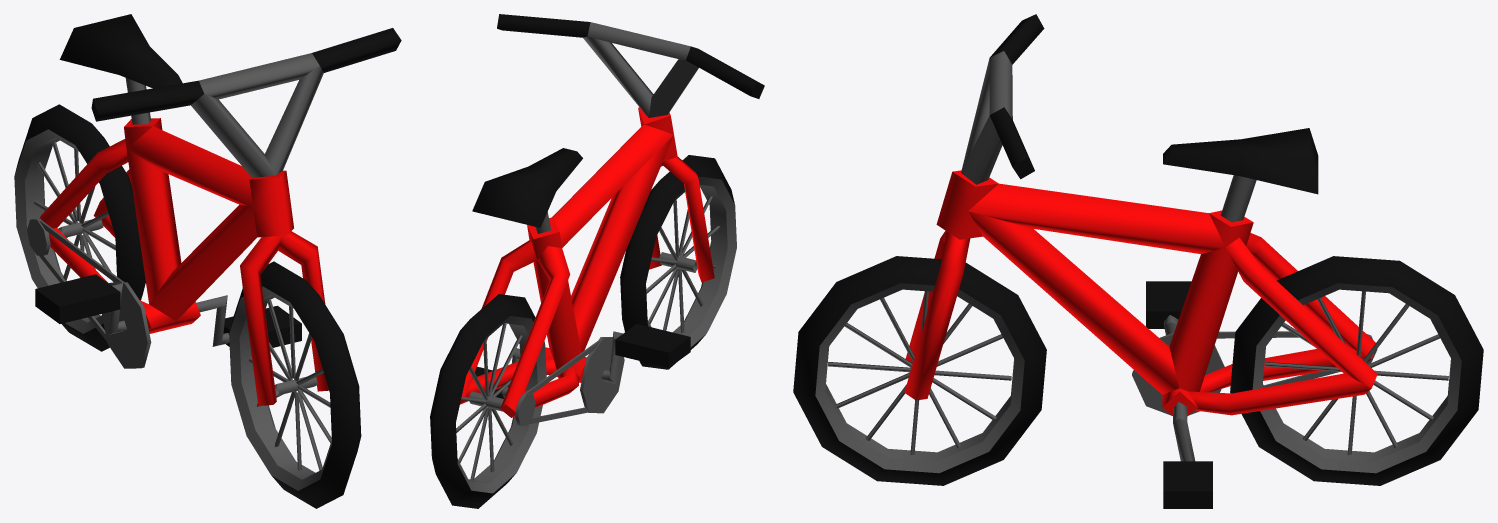
The model's file is bicycle.obj.
3 views of the same model, side by side, from view 1: azimuth 30°, elevation 25°; view 2: azimuth 150°, elevation 25°; view 3: azimuth 270°, elevation 25° (orthographic). The views are drawn at different scales.
Parts seen in each view (by area): view 1: Bicycle; view 2: Bicycle; view 3: Bicycle.
Boxes of the visible parts, box(x1,y1,x2,y2) form: Bicycle: box(14, 14, 401, 508); Bicycle: box(430, 14, 764, 508); Bicycle: box(793, 14, 1483, 508).
Size of the model in its own units: 0.6532 by 0.836 by 1.28.
